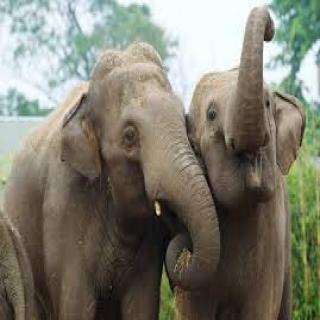Elephant: (9, 39, 222, 320), (186, 1, 310, 320)
